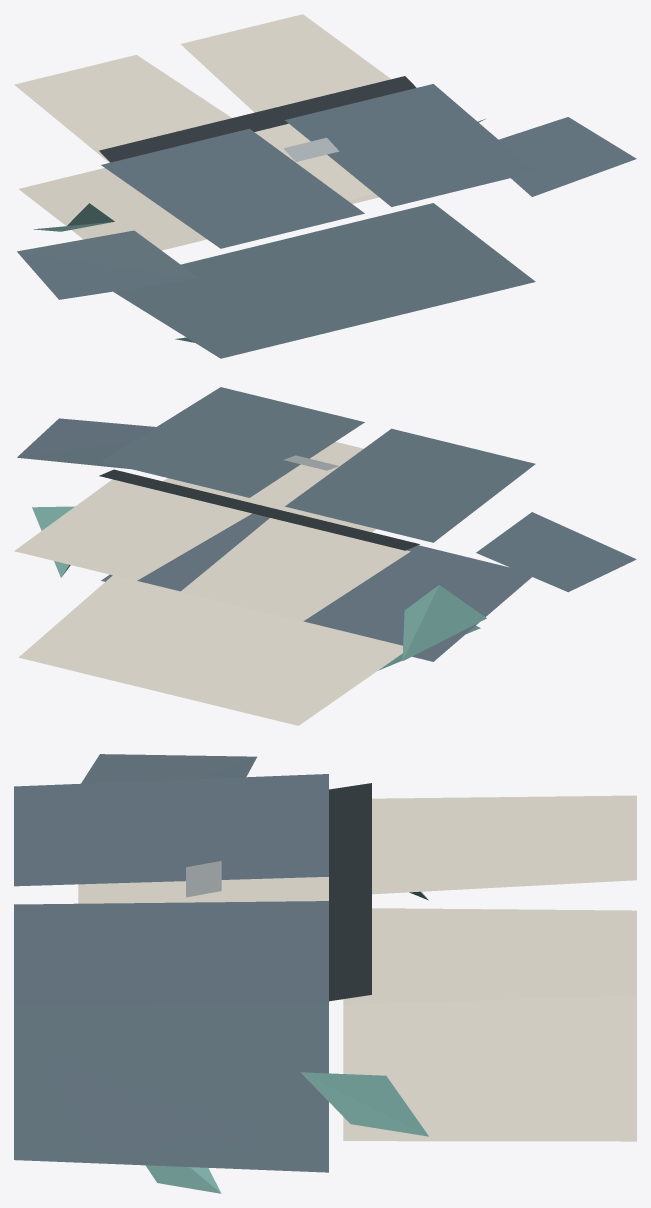
File: crosswind-vent-shirt-set-prototype.obj
3 views of the same model, one above another, from view 1: azimuth 30°, elevation 25°; view 2: azimuth 150°, elevation 25°; view 3: azimuth 270°, elevation 25° (orthographic). The views are drawn at different scales.
Visible parts, largest first — view 1: shirt_back, shirt_front_L, shirt_front_R, short_front_L, short_front_R, sleeve_L, short_back, sleeve_R, waistband, inner_front, closure_tab, side_vent_L; view 2: short_back, shirt_front_L, shirt_front_R, shirt_back, short_front_R, short_front_L, sleeve_L, sleeve_R, inner_front, side_vent_L, waistband, side_vent_R; view 3: short_back, shirt_back, shirt_front_R, shirt_front_L, short_front_R, short_front_L, sleeve_R, waistband, inner_front, side_vent_R, sleeve_L, back_vent_R (+1 smaller).
Boxes of the visible parts, x1,y1,x2,y2 form: shirt_back: (113,203,535,358); shirt_front_L: (101,128,364,248); shirt_front_R: (285,84,535,206); short_front_L: (14,55,231,162); short_front_R: (180,14,390,112); sleeve_L: (17,230,198,299); short_back: (19,168,379,250); sleeve_R: (499,117,636,196); waistband: (99,76,416,162); inner_front: (254,123,374,200); closure_tab: (283,137,339,161); side_vent_L: (33,203,114,231); short_back: (19,575,402,725); shirt_front_L: (285,428,535,542); shirt_front_R: (101,387,364,497); shirt_back: (101,513,531,661); short_front_R: (14,479,251,580); short_front_L: (180,518,410,621); sleeve_L: (476,512,636,592); sleeve_R: (17,418,155,468); inner_front: (163,442,375,532); side_vent_L: (402,585,486,660); waistband: (99,469,419,550); side_vent_R: (32,506,74,577); short_back: (343,995,636,1141); shirt_back: (14,1004,328,1172); shirt_front_R: (14,901,328,1004); shirt_front_L: (14,774,328,886); short_front_R: (343,908,636,1004); short_front_L: (372,795,636,894); sleeve_R: (50,1059,257,1153); waistband: (329,783,371,1001); inner_front: (78,877,328,903); side_vent_R: (301,1072,428,1136); sleeve_L: (81,754,256,783); back_vent_R: (145,1165,221,1193).
Size of the model in its own units: 1.32 by 0.42 by 0.87.
